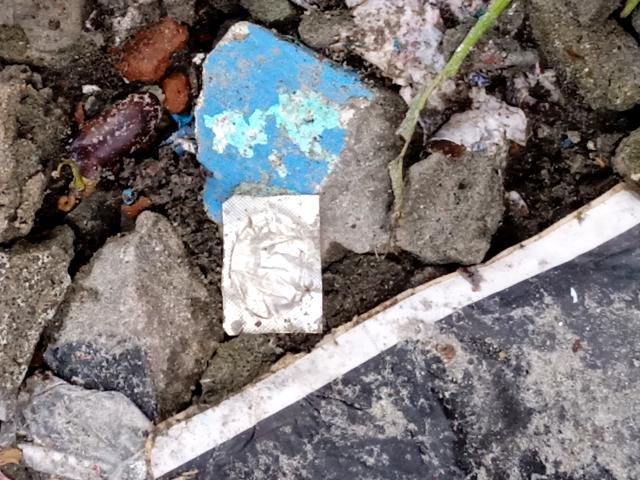medicine: (214, 176, 331, 340)
